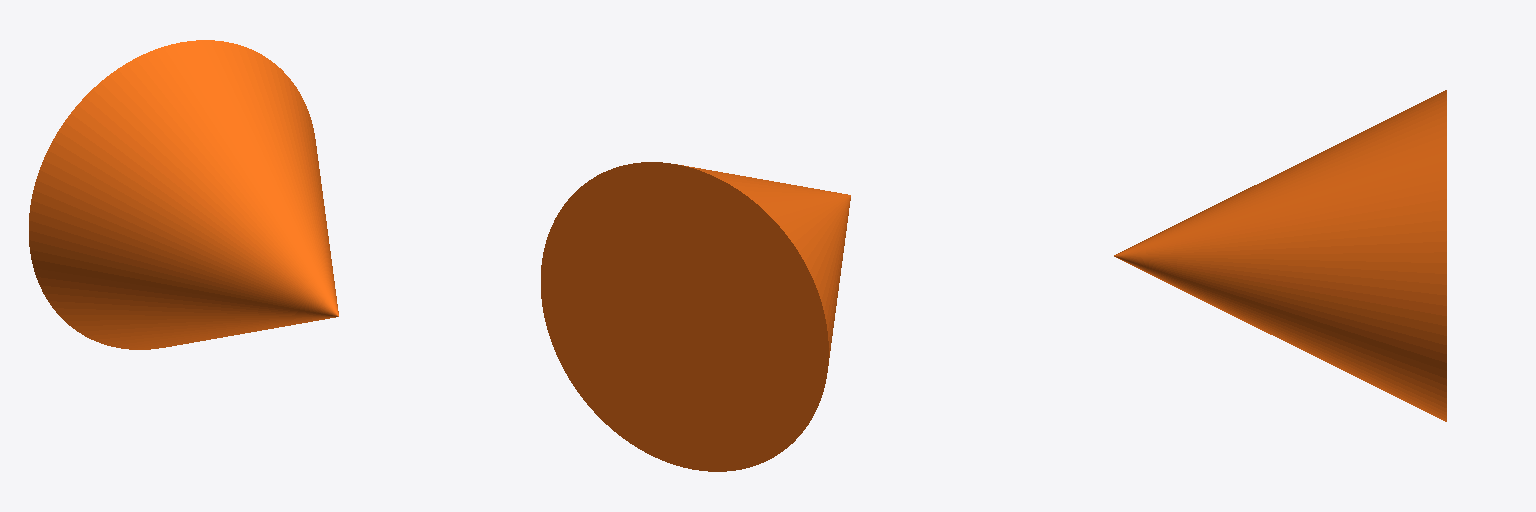
The model's file is arrow2.obj.
3 renders of one model, left to right at view 1: azimuth 30°, elevation 25°; view 2: azimuth 150°, elevation 25°; view 3: azimuth 270°, elevation 25°, orthographic.
Visible parts, largest first — view 1: default; view 2: default; view 3: default.
Part boxes in pixels (x1,y1,x2,y2): default: (29, 40, 338, 349); default: (541, 162, 850, 471); default: (1114, 90, 1446, 421).
Bounding box in the file's own units: 10.33 × 10.33 × 10.33.